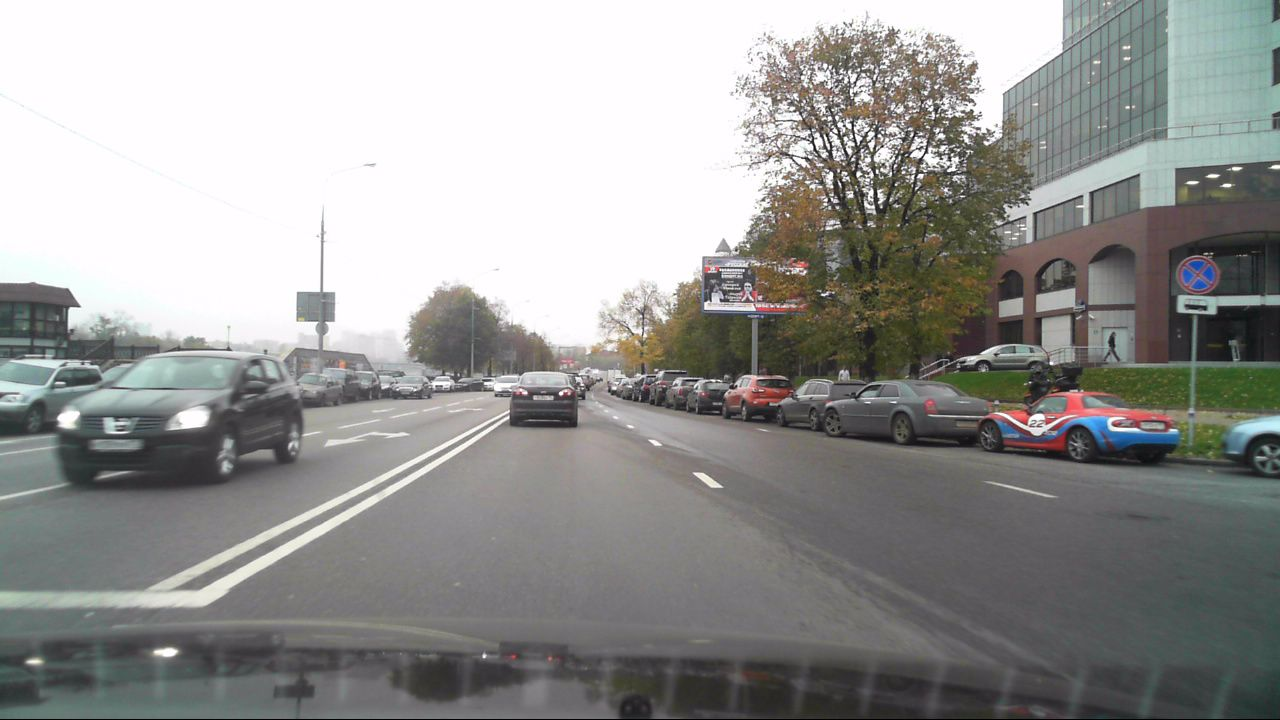No Parking: (1176, 254, 1220, 294)
